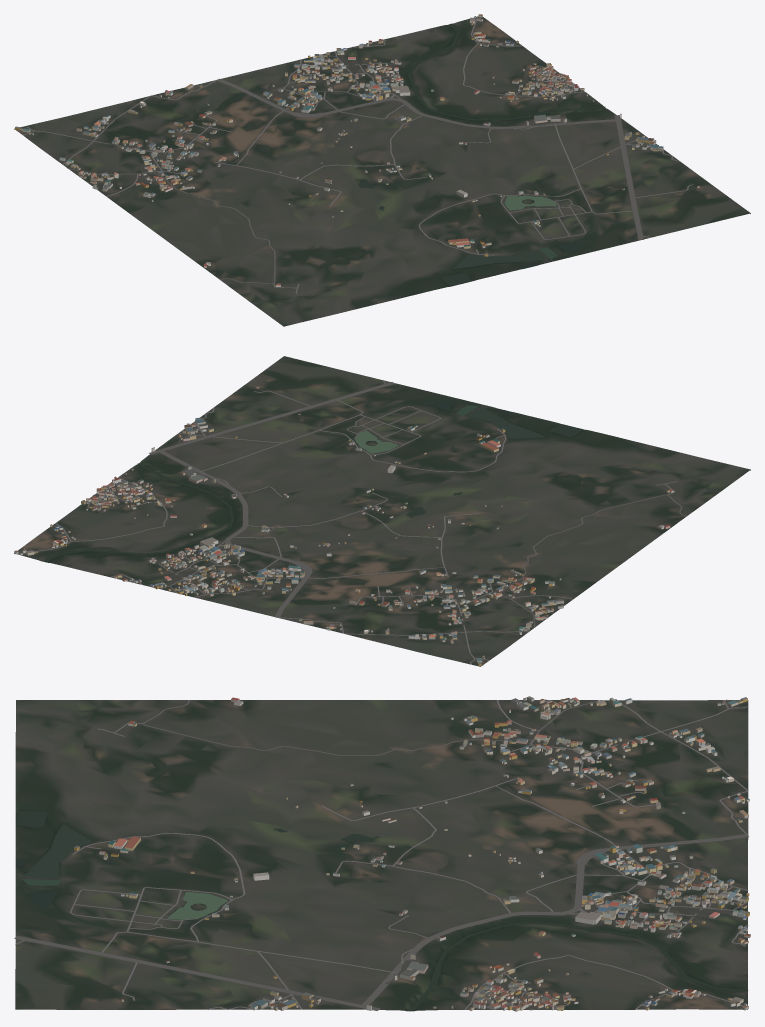
The picture shows the model from 3 angles, top to bottom: view 1: azimuth 30°, elevation 25°; view 2: azimuth 150°, elevation 25°; view 3: azimuth 270°, elevation 25°; orthographic projection. The views are drawn at different scales.
Visible parts, largest first — view 1: ground, buildings, roads, water; view 2: ground, buildings, roads, water; view 3: ground, buildings, roads, water.
Part boxes in pixels (x1,y1,x2,y2): ground: (14,16,750,326); buildings: (15,14,699,286); roads: (22,16,693,293); water: (355,23,605,286); ground: (14,356,750,666); buildings: (14,386,673,666); roads: (17,380,686,664); water: (43,399,583,561); ground: (15,700,748,1011); buildings: (74,696,750,1011); roads: (14,699,748,1010); water: (16,811,748,1011).
Size of the model in its own units: 1414 by 17.93 by 1410.
